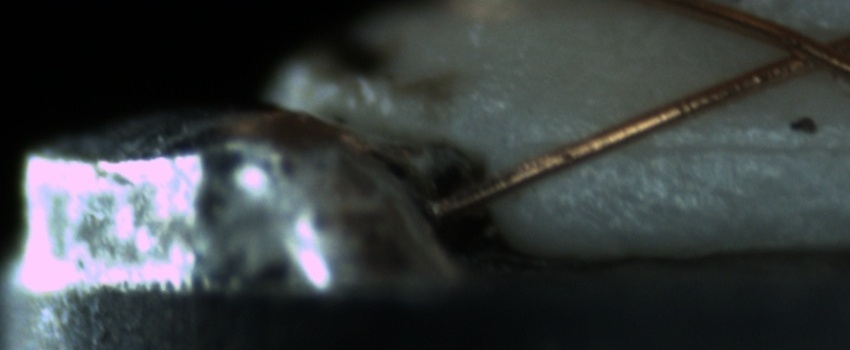CL: (760, 19, 847, 81)
DL: (544, 114, 850, 176)
